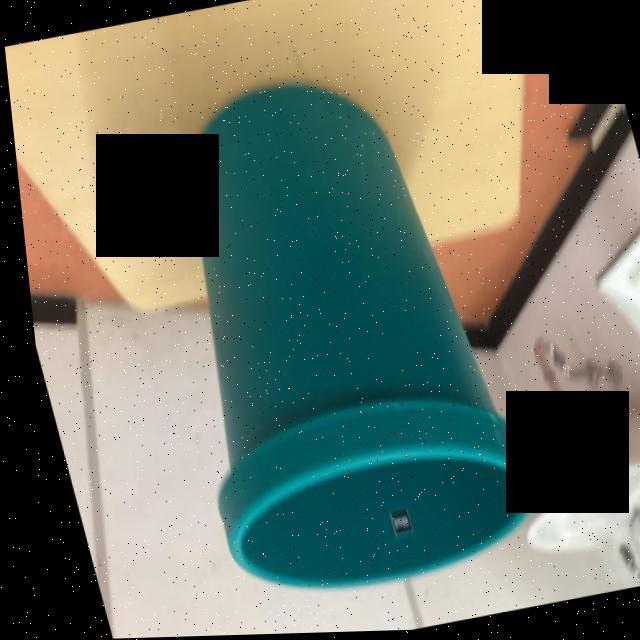bin: (89, 32, 561, 638)
